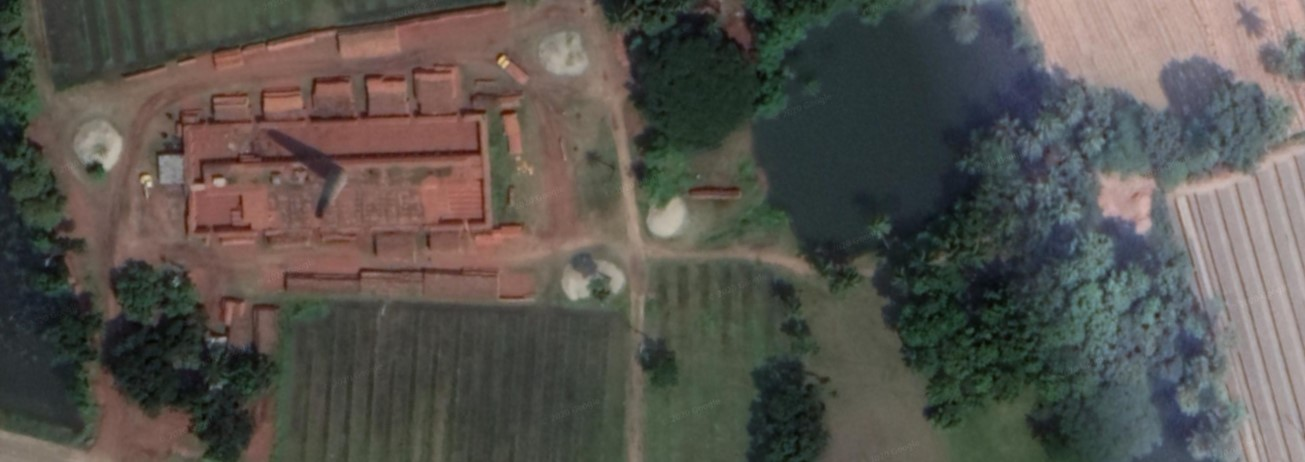kiln: (158, 74, 559, 300)
